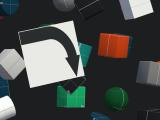Right: (18, 20, 85, 88)
